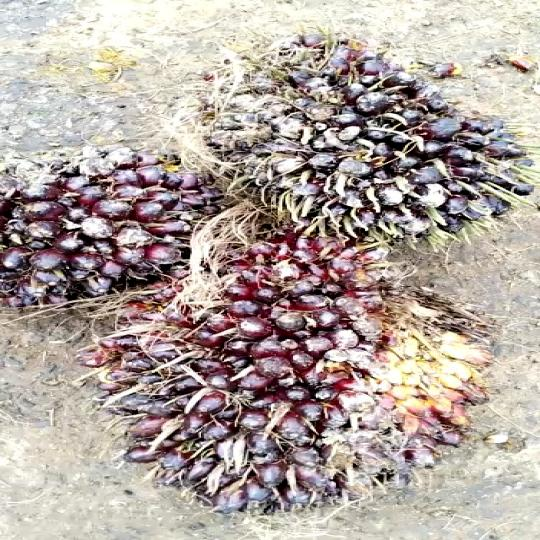kurang masak: (99, 241, 498, 509), (161, 29, 538, 239), (0, 145, 215, 328)
